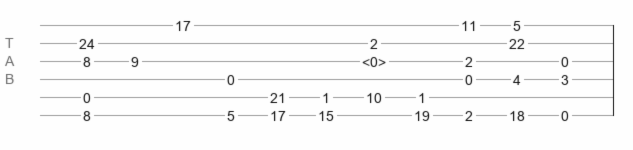0: (83, 90, 91, 100), (227, 72, 235, 82), (465, 72, 473, 82), (561, 54, 569, 64), (561, 108, 569, 118)
1: (322, 90, 330, 100), (418, 90, 426, 100)
10: (366, 90, 382, 100)
11: (461, 18, 477, 28)
15: (318, 108, 334, 118)
17: (175, 18, 191, 28), (270, 108, 286, 118)
18: (509, 108, 525, 118)
19: (414, 108, 430, 118)
2: (370, 36, 378, 46), (465, 54, 473, 64), (465, 108, 473, 118)
21: (270, 90, 286, 100)
22: (509, 36, 525, 46)
24: (79, 36, 95, 46)
3: (561, 72, 569, 82)
4: (513, 72, 521, 82)
5: (227, 108, 235, 118), (513, 18, 521, 28)
8: (83, 108, 91, 118), (83, 54, 91, 64)
9: (131, 54, 139, 64)
harmonic: (362, 54, 386, 64)
